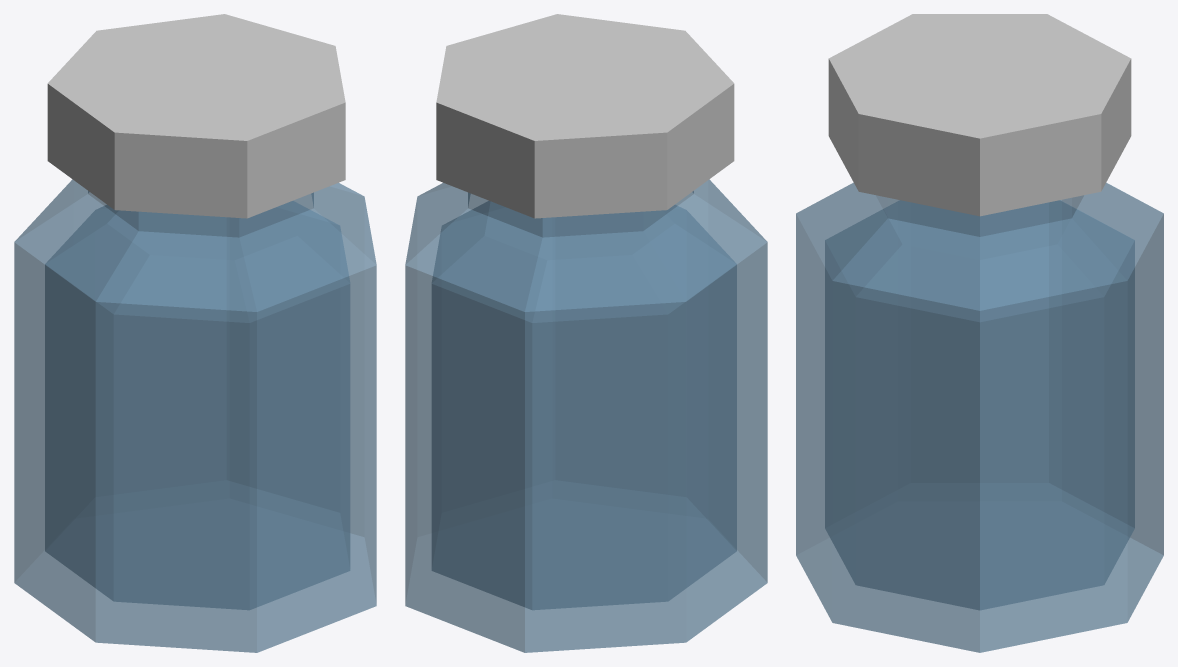
Rendered from Water Bottle.fbx.
The picture shows the model from 3 angles, left to right: view 1: azimuth 30°, elevation 25°; view 2: azimuth 150°, elevation 25°; view 3: azimuth 270°, elevation 25°; orthographic projection.
Visible parts, largest first — view 1: pCylinder1, pasted__pCylinder1, pCylinder2; view 2: pCylinder1, pasted__pCylinder1, pCylinder2; view 3: pCylinder1, pasted__pCylinder1, pCylinder2.
Boxes of the visible parts, x1,y1,x2,y2 form: pCylinder1: [14, 179, 376, 652]; pasted__pCylinder1: [45, 201, 349, 609]; pCylinder2: [47, 14, 345, 218]; pCylinder1: [405, 179, 767, 652]; pasted__pCylinder1: [432, 201, 736, 609]; pCylinder2: [436, 14, 734, 218]; pCylinder1: [796, 182, 1163, 652]; pasted__pCylinder1: [825, 200, 1134, 610]; pCylinder2: [828, 14, 1131, 216].
Size of the model in its own units: 1.9 by 2.92 by 1.95.
